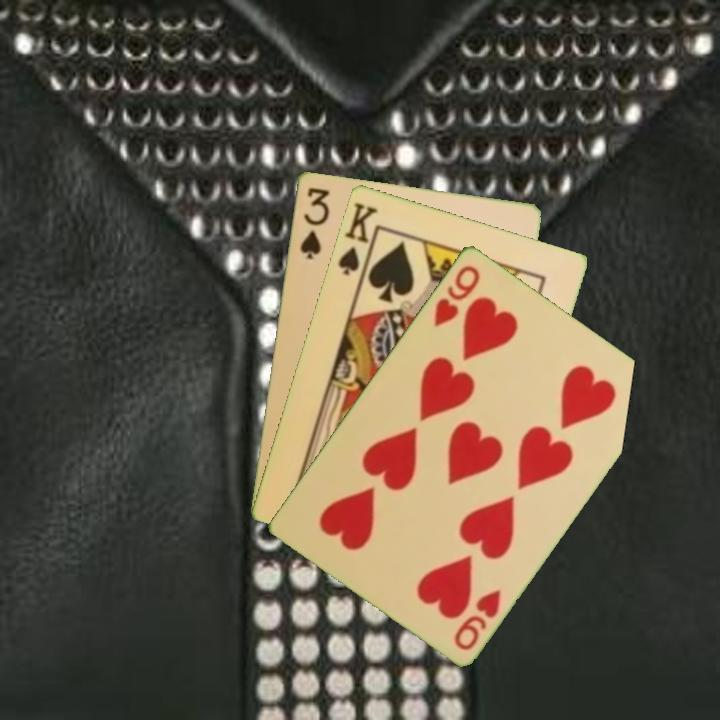3s: (296, 183, 332, 262)
9h: (450, 585, 504, 653), (430, 261, 483, 330)
Ks: (334, 198, 381, 278)
